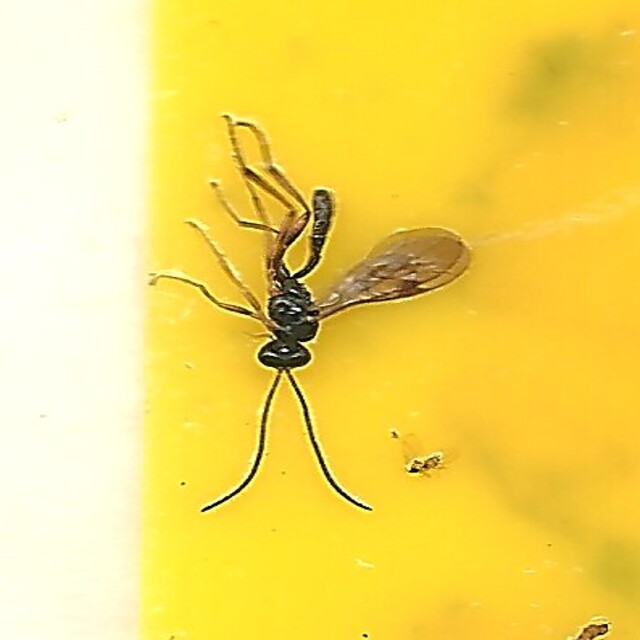Hymenoptera: (161, 123, 479, 517)
